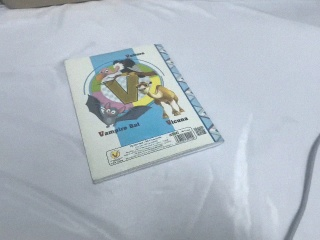book: (65, 42, 226, 185)
